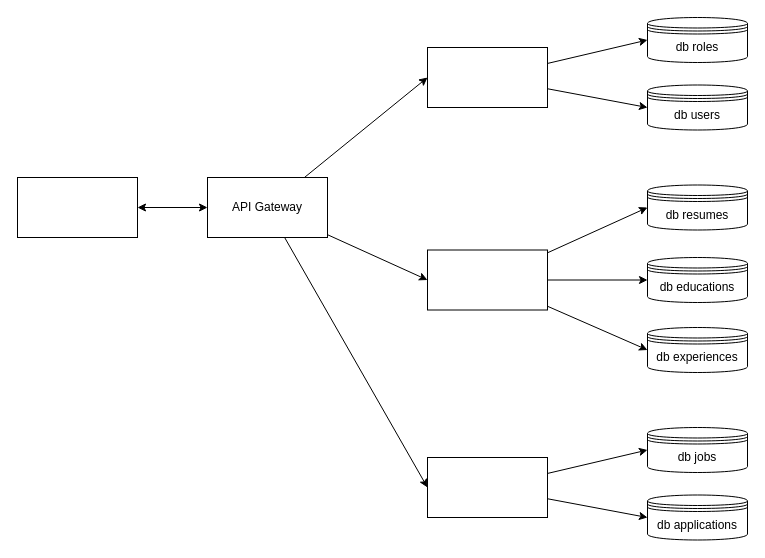
Image size: 765x558. Some labels were removed from this diagram. Each missing label, with the centre of its shape:
Job Service: point (487, 487)
Resume Service: point (487, 279)
User Service: point (487, 77)
Клиент: point (77, 207)
